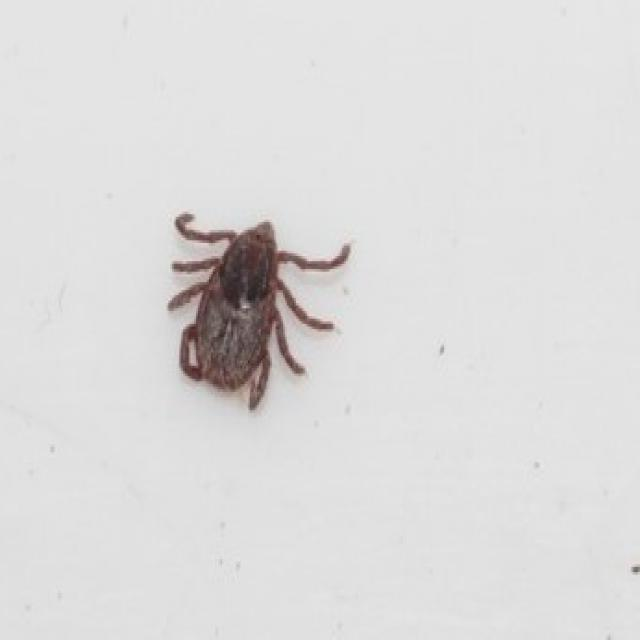Rhipicephalus Sanguineus-F: (166, 212, 351, 415)
